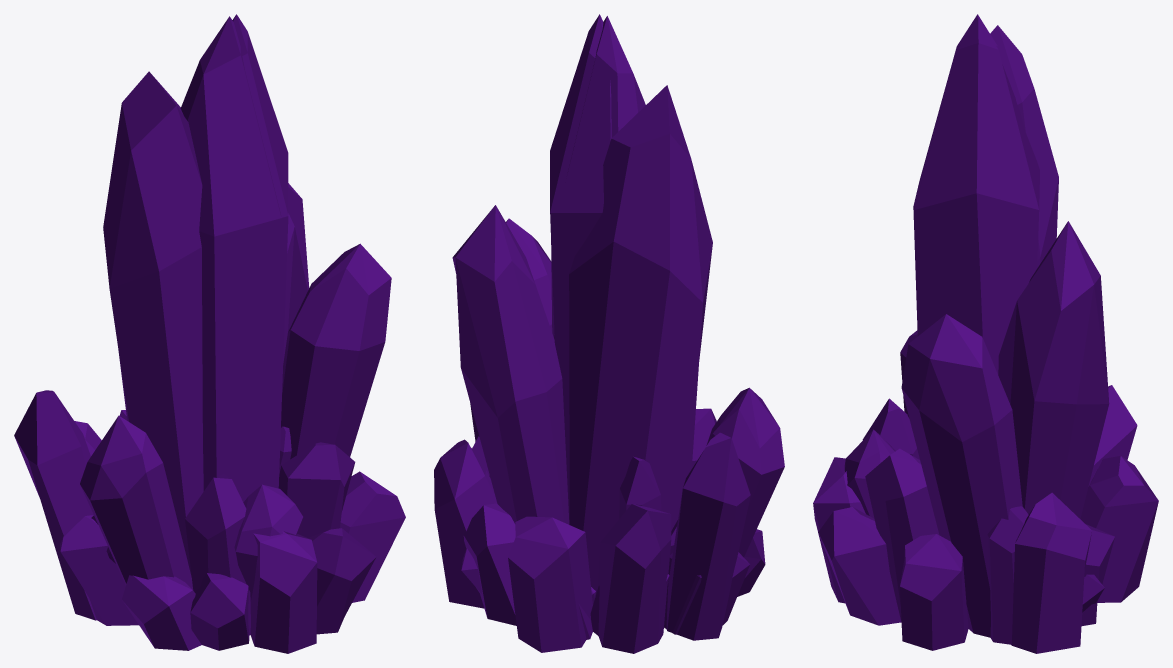
Rendered from Cristais_Corropidos.fbx.
3 renders of one model, left to right at view 1: azimuth 30°, elevation 25°; view 2: azimuth 150°, elevation 25°; view 3: azimuth 270°, elevation 25°, orthographic.
Visible parts, largest first — view 1: Cristal_GrandeV1, Cristal_GrandeV2, Cristal_Sozinho_Grande; view 2: Cristal_GrandeV2, Cristal_GrandeV1, Cristal_Sozinho_Grande; view 3: Cristal_GrandeV1, Cristal_GrandeV2, Cristal_Sozinho_Grande.
Boxes of the visible parts, x1=… form: Cristal_GrandeV1: x1=60, y1=14, x2=405, y2=653; Cristal_GrandeV2: x1=14, y1=71, x2=309, y2=650; Cristal_Sozinho_Grande: x1=180, y1=16, x2=281, y2=502; Cristal_GrandeV2: x1=452, y1=85, x2=765, y2=640; Cristal_GrandeV1: x1=434, y1=14, x2=784, y2=653; Cristal_Sozinho_Grande: x1=565, y1=16, x2=645, y2=181; Cristal_GrandeV1: x1=813, y1=18, x2=1158, y2=653; Cristal_GrandeV2: x1=844, y1=25, x2=1109, y2=644; Cristal_Sozinho_Grande: x1=913, y1=14, x2=1029, y2=336.
Size of the model in its own units: 271 by 487 by 263.
